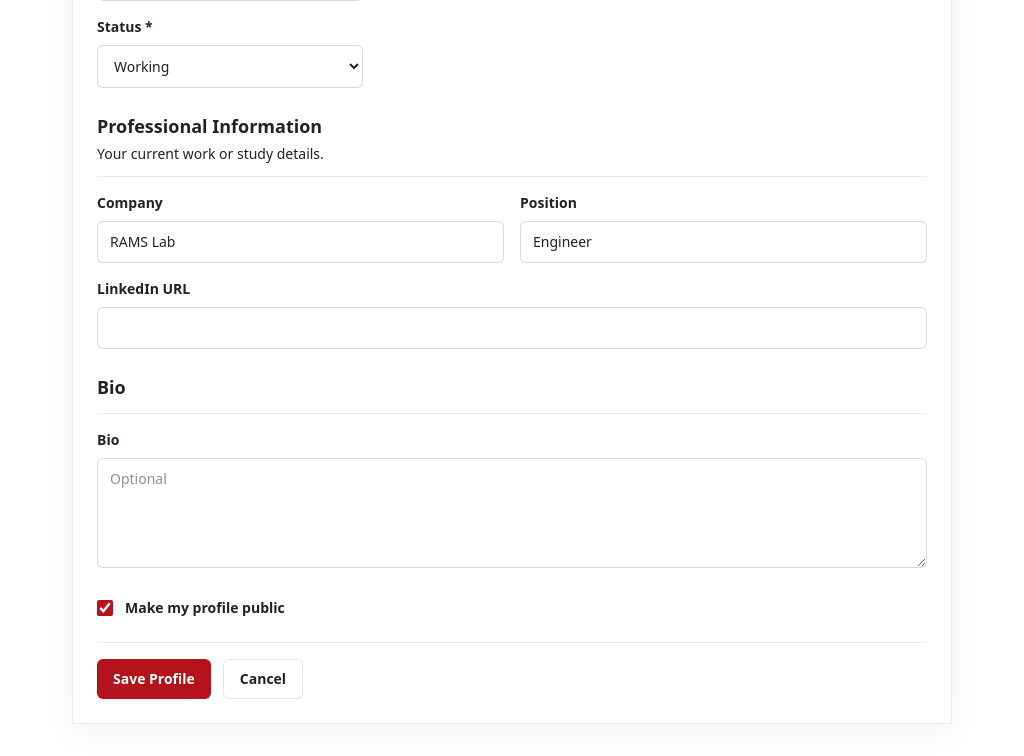
Test: AlumniProfile – save notifications › does not claim the profile is complete while the backend still reports it incomplete
(page scrolled)
Click the button "Save Profile". click: coordinates (154, 679)
box: x1=97 y1=659 x2=211 y2=699
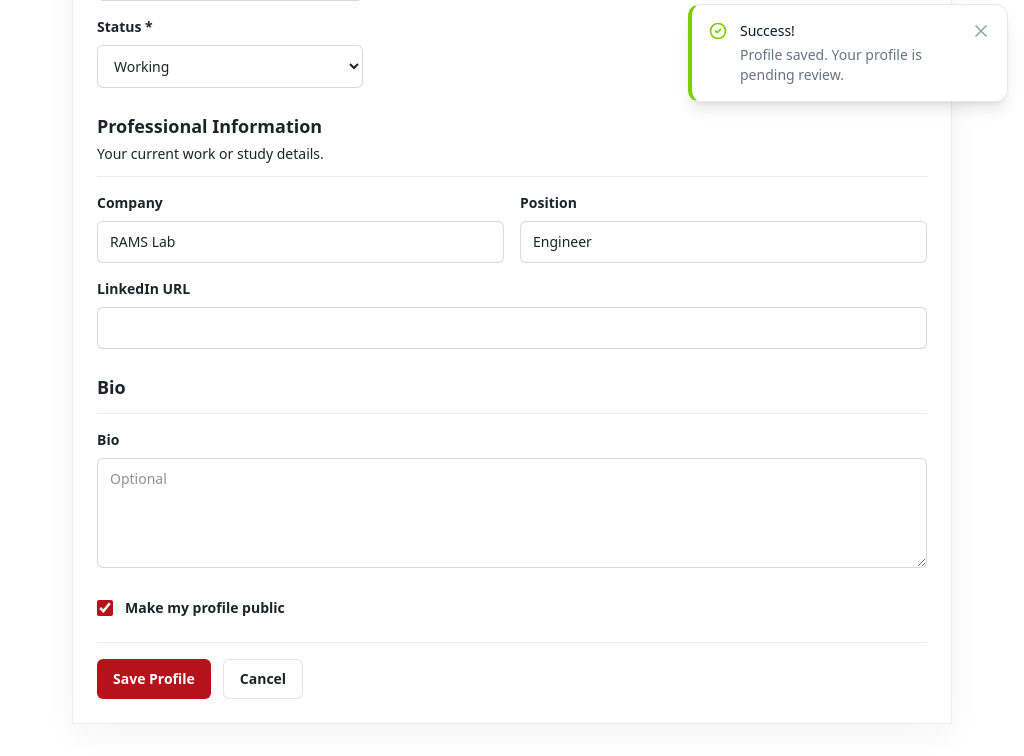
Now the text "Profile saved. Your profile is pending review." is shown, box x1=740 y1=45 x2=922 y2=84
